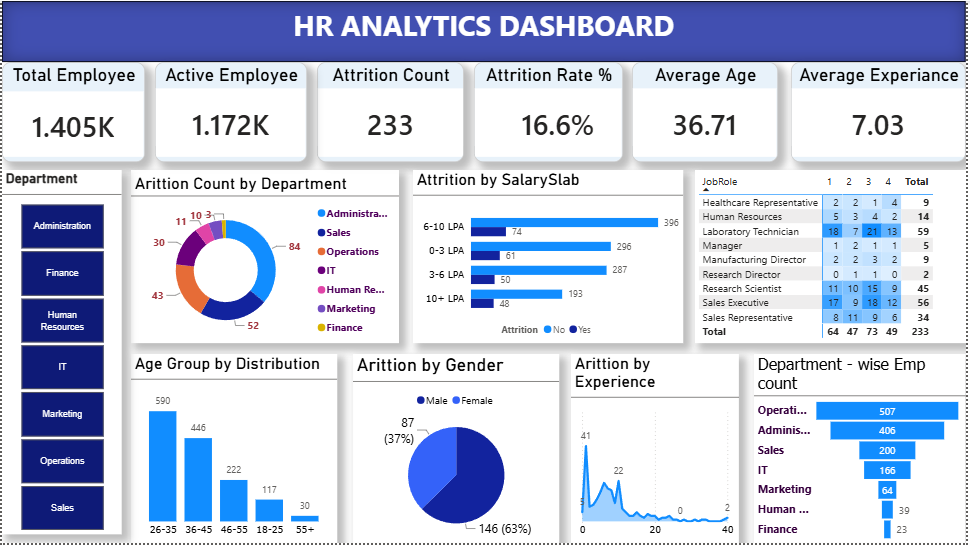

The dashboard page shown, as its layout file describes it:
{"tool":"powerbi","page":{"name":"Page 1","canvas":[1280,720],"ordinal":0},"visuals":[{"type":"cardVisual","title":"Total Employee","fields":{"Data":["CountNonNull(HR_Analytics-4.EmployeeCount)"]},"box":[0,81,190,132.8],"z":0},{"type":"textbox","box":[0,0,1280,81.2],"z":1000},{"type":"cardVisual","title":"Attrition Count","fields":{"Data":["CountNonNull(HR_Analytics-4.EmployeeCount)"]},"box":[418.5,81,195.3,132.8],"z":2000},{"type":"cardVisual","title":"Attrition Rate % ","fields":{"Data":["HR_Analytics-4.Attrition rate %"]},"box":[627,81,197.9,132.8],"z":3000},{"type":"cardVisual","title":"Average Age","fields":{"Data":["Avg(HR_Analytics-4.Age)"]},"box":[836.9,81,193.9,132.8],"z":4000},{"type":"cardVisual","title":"Average Experiance","fields":{"Data":["Avg(HR_Analytics-4.YearsatCompany)"]},"box":[1048.1,81,232.5,132.8],"z":5000},{"type":"cardVisual","title":"Active Employee","fields":{"Data":["CountNonNull(HR_Analytics-4.EmployeeCount)"]},"box":[203.2,81,201.9,132.8],"z":6000},{"type":"donutChart","title":"Arittion Count by Department","fields":{"Category":["HR_Analytics-4.Department"],"Y":["Sum(HR_Analytics-4.ArittionCount)"]},"box":[171.4,224.3,355.7,230],"z":7000},{"type":"clusteredBarChart","title":"Attrition by SalarySlab ","fields":{"Category":["HR_Analytics-4.SalarySlab"],"Series":["HR_Analytics-4.Attrition"],"Y":["Sum(HR_Analytics-4.EmployeeCount)"]},"box":[545.7,224.3,358.6,230],"z":8000},{"type":"pivotTable","fields":{"Values":["Sum(HR_Analytics-4.ArittionCount)"],"Rows":["HR_Analytics-4.JobRole"],"Columns":["HR_Analytics-4.JobSatisfaction"]},"box":[920,224.3,360,230],"z":9000},{"type":"pieChart","title":" Arittion by Gender","fields":{"Category":["HR_Analytics-4.Gender"],"Y":["Sum(HR_Analytics-4.ArittionCount)"]},"box":[465.7,468.6,274.3,251.4],"z":10000},{"type":"clusteredColumnChart","title":"Age Group by Distribution","fields":{"Category":["HR_Analytics-4.AgeGroup"],"Y":["Sum(HR_Analytics-4.EmployeeCount)"]},"box":[171.4,468.6,274.3,251.4],"z":11000},{"type":"areaChart","title":" Arittion by Experience","fields":{"Category":["HR_Analytics-4.TotalExperience(Years)"],"Y":["Sum(HR_Analytics-4.ArittionCount)"]},"box":[755.7,468.6,222.9,251.4],"z":11001},{"type":"funnel","title":"Department - wise Emp count","fields":{"Category":["HR_Analytics-4.Department"],"Y":["Sum(HR_Analytics-4.EmployeeCount)"]},"box":[998.6,468.6,281.4,251.4],"z":11002},{"type":"slicer","title":"Department","fields":{"Values":["HR_Analytics-4.Department"]},"box":[0,224.3,158.6,484.3],"z":11003}]}

Visuals, with their boxes in screenshot pixels (x1, y1, x2, y2), scaled from the page's 1280x720 canvas onto the 970x547 screenshot:
"Total Employee" cardVisual: box=[0, 62, 144, 162]
textbox: box=[0, 0, 969, 62]
"Attrition Count" cardVisual: box=[317, 62, 465, 162]
"Attrition Rate % " cardVisual: box=[475, 62, 625, 162]
"Average Age" cardVisual: box=[634, 62, 781, 162]
"Average Experiance" cardVisual: box=[794, 62, 969, 162]
"Active Employee" cardVisual: box=[154, 62, 307, 162]
"Arittion Count by Department" donutChart: box=[130, 170, 399, 345]
"Attrition by SalarySlab " clusteredBarChart: box=[414, 170, 685, 345]
pivotTable - Sum(HR_Analytics-4.ArittionCount) x HR_Analytics-4.JobRole: box=[697, 170, 969, 345]
" Arittion by Gender" pieChart: box=[353, 356, 561, 546]
"Age Group by Distribution" clusteredColumnChart: box=[130, 356, 338, 546]
" Arittion by Experience" areaChart: box=[573, 356, 742, 546]
"Department - wise Emp count" funnel: box=[757, 356, 969, 546]
"Department" slicer: box=[0, 170, 120, 538]
